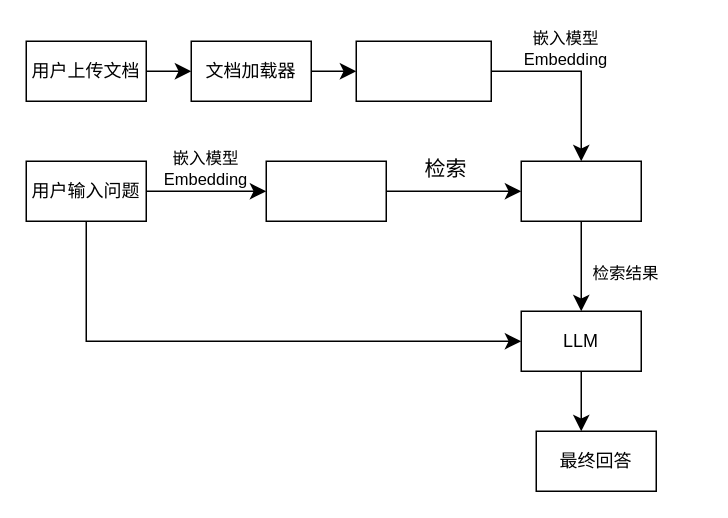
Image size: 728x518. Some labels were removed from this diagram. Here are the shapes that lost their labels. From the top down, the box of each, then its label:
(355, 40, 491, 101): 文档分割器
(265, 160, 386, 221): 问题向量化
(520, 160, 641, 221): FAISS向量数据库
